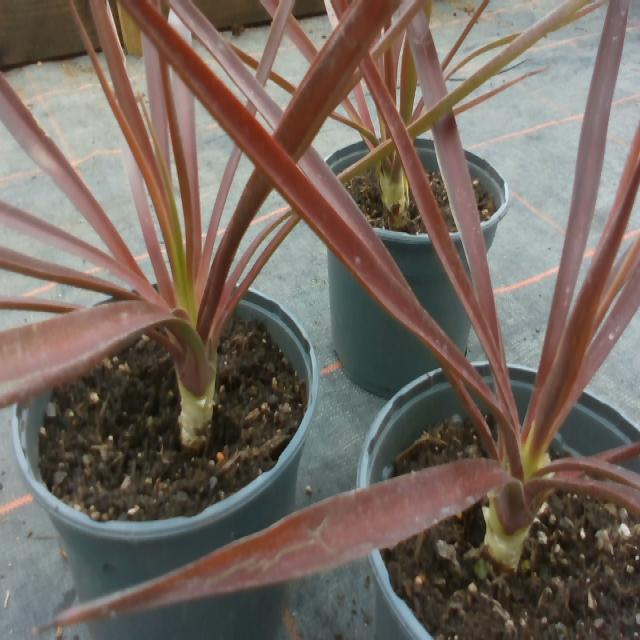Yucca-aloifolia: (127, 3, 488, 397), (53, 461, 508, 623), (172, 0, 399, 275), (363, 56, 505, 389), (529, 123, 639, 456), (540, 0, 629, 373), (0, 76, 141, 273), (89, 0, 185, 284), (406, 0, 594, 139), (0, 301, 188, 407), (274, 0, 397, 161), (433, 112, 505, 360), (197, 152, 278, 336), (0, 201, 141, 287), (570, 239, 639, 399), (0, 247, 134, 296), (233, 209, 299, 301), (172, 72, 201, 276), (124, 144, 167, 279), (201, 145, 241, 268), (525, 476, 639, 516), (408, 12, 445, 105), (141, 36, 168, 160), (534, 459, 639, 489), (256, 0, 293, 85), (338, 140, 396, 183), (286, 15, 317, 63), (341, 97, 372, 141), (0, 296, 80, 312), (330, 112, 373, 141), (226, 41, 257, 68), (169, 12, 190, 44), (269, 72, 295, 92), (260, 0, 279, 16), (197, 276, 204, 292)
